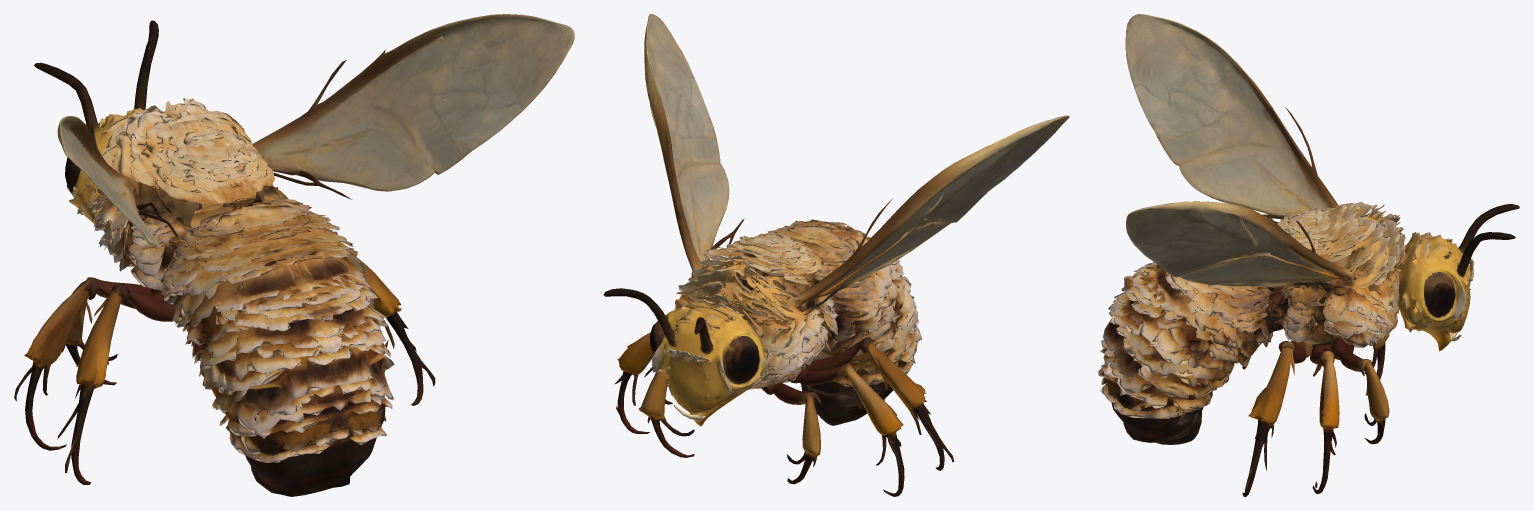
The model's file is mob_hornet.glb.
3 renders of one model, left to right at view 1: azimuth 30°, elevation 25°; view 2: azimuth 150°, elevation 25°; view 3: azimuth 270°, elevation 25°, orthographic. The views are drawn at different scales.
Visible parts, largest first — view 1: geometry_0; view 2: geometry_0; view 3: geometry_0.
Boxes of the visible parts, box(x1,y1,x2,y2) form: geometry_0: box(14, 14, 574, 496); geometry_0: box(603, 14, 1069, 496); geometry_0: box(1098, 14, 1519, 496).
Bounding box in the file's own units: 0.9999 × 0.786 × 0.9066.
Materials: 1 (1 with a texture image).
